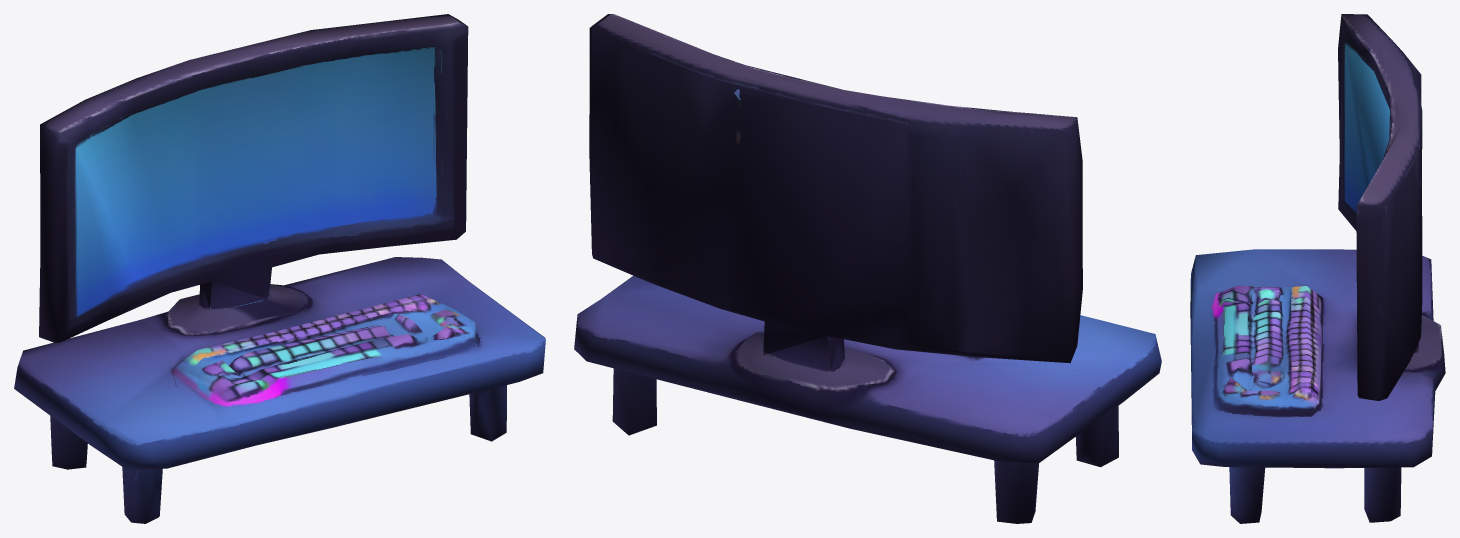
File: neon-workstation.glb
The picture shows the model from 3 angles, left to right: view 1: azimuth 30°, elevation 25°; view 2: azimuth 150°, elevation 25°; view 3: azimuth 270°, elevation 25°; orthographic projection. The views are drawn at different scales.
Parts seen in each view (by area): view 1: geometry_0.001; view 2: geometry_0.001; view 3: geometry_0.001.
Part boxes in pixels (bbox=[...]): geometry_0.001: bbox=[14, 14, 545, 523]; geometry_0.001: bbox=[574, 14, 1161, 523]; geometry_0.001: bbox=[1190, 14, 1445, 523].
Bounding box in the file's own units: 0.9999 × 0.8008 × 0.5542.
1 material, 1 textured.
